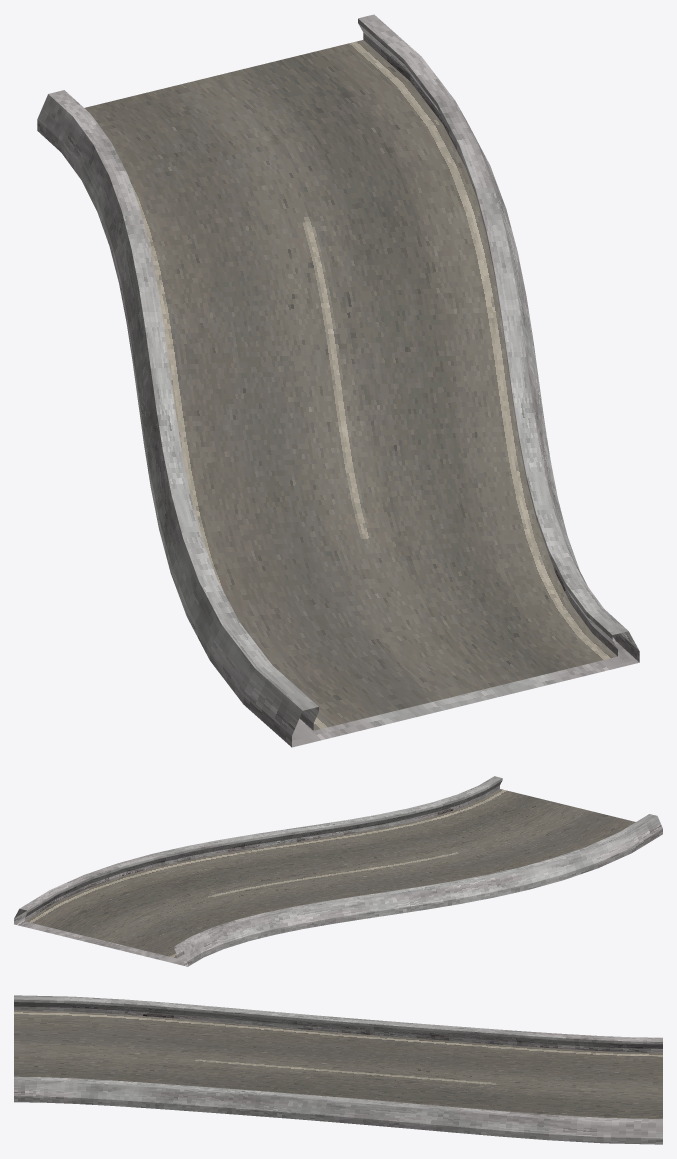
File: road-Chicane-Flat-Flat-Up1-Right1-Size3.glb
3 renders of one model, top to bottom at view 1: azimuth 30°, elevation 25°; view 2: azimuth 150°, elevation 25°; view 3: azimuth 270°, elevation 25°, orthographic. The views are drawn at different scales.
Visible parts, largest first — view 1: road-Chicane-Flat-Flat-Up1-Right1-Size3; view 2: road-Chicane-Flat-Flat-Up1-Right1-Size3; view 3: road-Chicane-Flat-Flat-Up1-Right1-Size3.
Boxes of the visible parts, x1,y1,x2,y2 form: road-Chicane-Flat-Flat-Up1-Right1-Size3: [37, 14, 639, 747]; road-Chicane-Flat-Flat-Up1-Right1-Size3: [14, 776, 662, 966]; road-Chicane-Flat-Flat-Up1-Right1-Size3: [14, 995, 662, 1144].
Size of the model in its own units: 2 by 0.3438 by 3.
2 materials, 2 textured.
